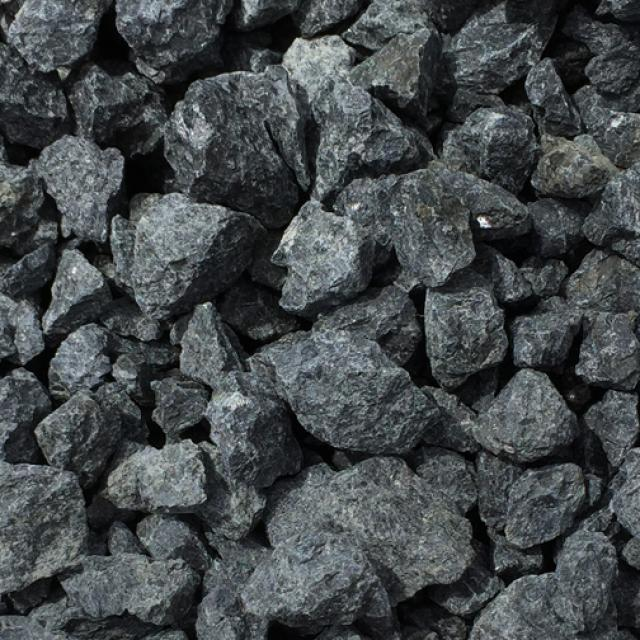Igneous: (3, 1, 636, 640)
